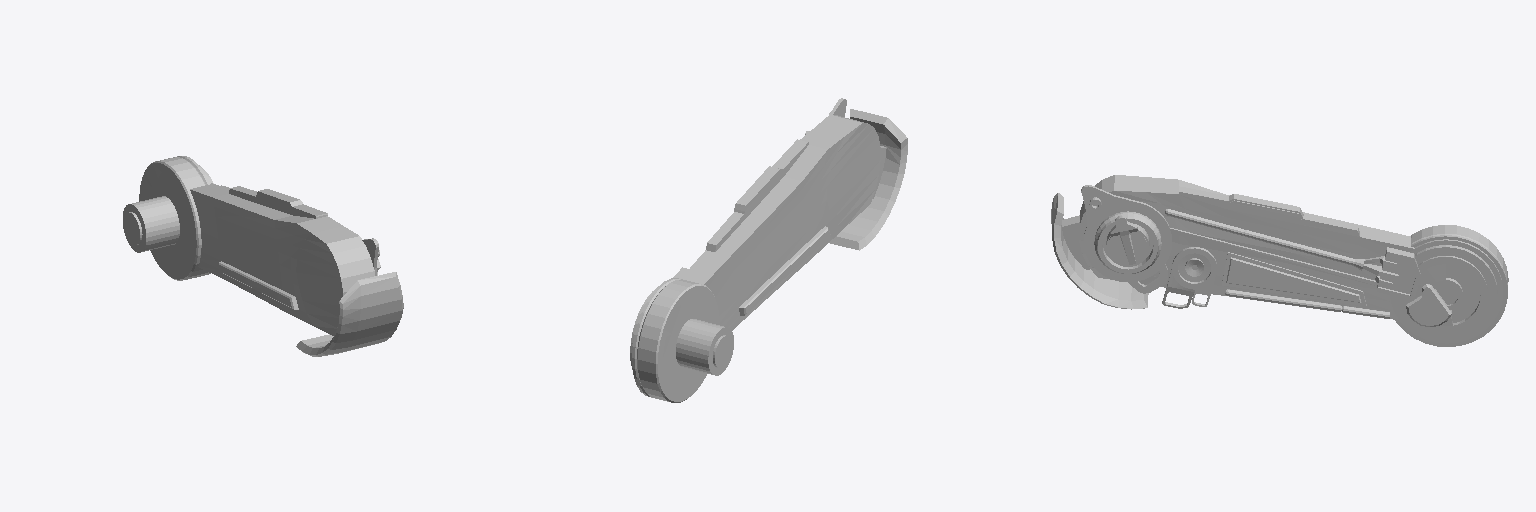
File: ATST_thigh_L.obj
3 views of the same model, side by side, from view 1: azimuth 30°, elevation 25°; view 2: azimuth 150°, elevation 25°; view 3: azimuth 270°, elevation 25° (orthographic).
Visible parts, largest first — view 1: ATST_thigh_L; view 2: ATST_thigh_L; view 3: ATST_thigh_L.
Part boxes in pixels (x1,y1,x2,y2): ATST_thigh_L: (123, 156, 403, 356); ATST_thigh_L: (630, 98, 907, 402); ATST_thigh_L: (1051, 175, 1508, 346).
Bounding box in the file's own units: 0.4058 × 0.7845 × 2.